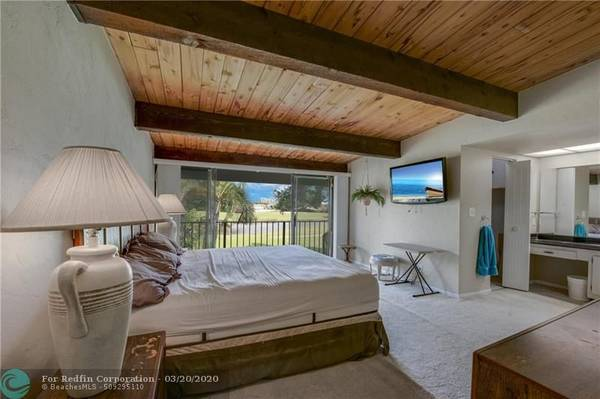bed: (117, 244, 383, 366)
lamp: (2, 144, 167, 399)
